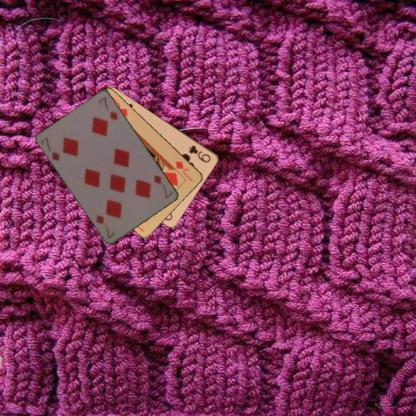7d: (38, 135, 61, 162), (152, 172, 174, 200)
9c: (187, 142, 212, 164)
Jd: (172, 158, 194, 182)
